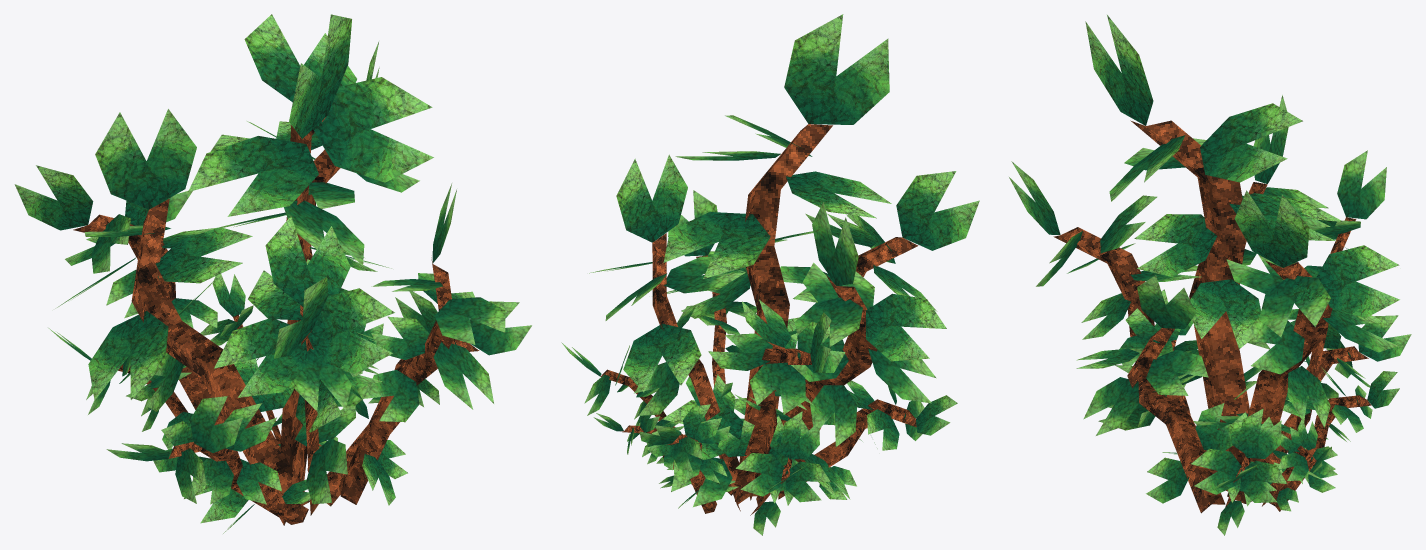
File: shrub_01.glb
3 views of the same model, side by side, from view 1: azimuth 30°, elevation 25°; view 2: azimuth 150°, elevation 25°; view 3: azimuth 270°, elevation 25° (orthographic). The views are drawn at different scales.
Visible parts, largest first — view 1: SHRUB_01-convex; view 2: SHRUB_01-convex; view 3: SHRUB_01-convex.
Boxes of the visible parts, <box> form: SHRUB_01-convex: <box>14,14,531,533</box>; SHRUB_01-convex: <box>561,14,979,535</box>; SHRUB_01-convex: <box>1009,15,1411,535</box>.
Bounding box in the file's own units: 3.08 × 3.54 × 2.74.
Materials: 1 (1 with a texture image).
